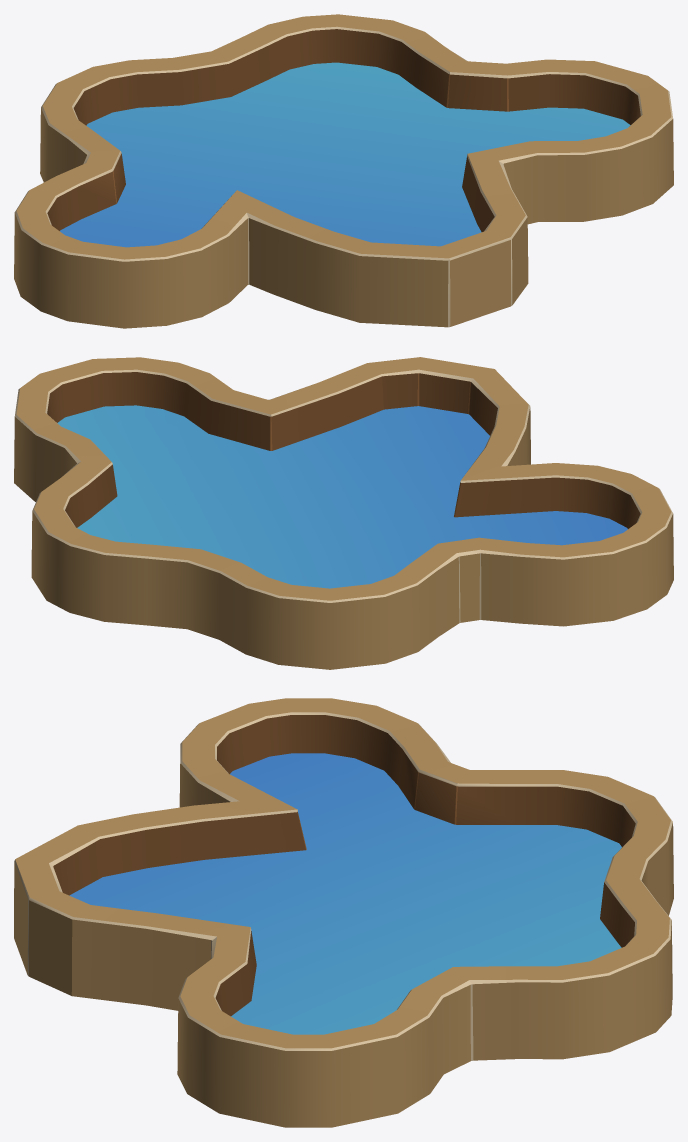
File: pool.fbx
3 views of the same model, one above another, from view 1: azimuth 30°, elevation 25°; view 2: azimuth 150°, elevation 25°; view 3: azimuth 270°, elevation 25° (orthographic). The views are drawn at different scales.
Parts seen in each view (by area): view 1: Mball.001; view 2: Mball.001; view 3: Mball.001.
Boxes of the visible parts, x1,y1,x2,y2 form: Mball.001: (14, 14, 673, 328); Mball.001: (14, 357, 673, 669); Mball.001: (14, 698, 673, 1127).
Bounding box in the file's own units: 805 × 83.74 × 637.
